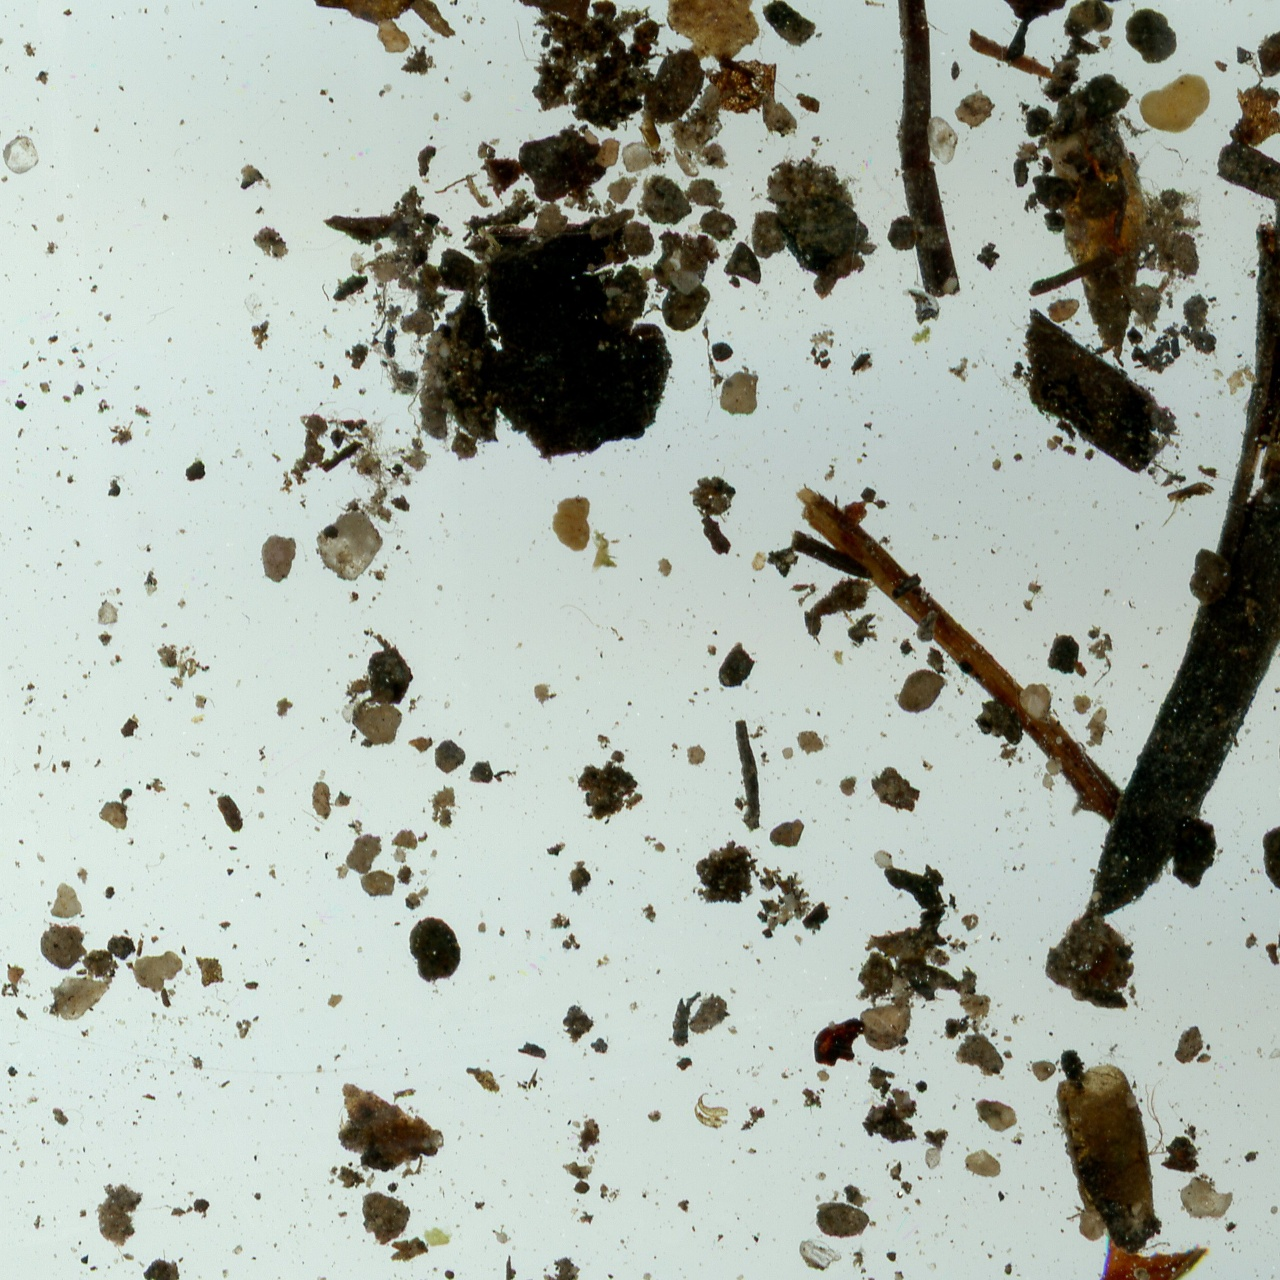arthropod: (1036, 80, 1170, 374), (626, 7, 670, 68), (1066, 1198, 1103, 1247), (629, 13, 659, 68)
